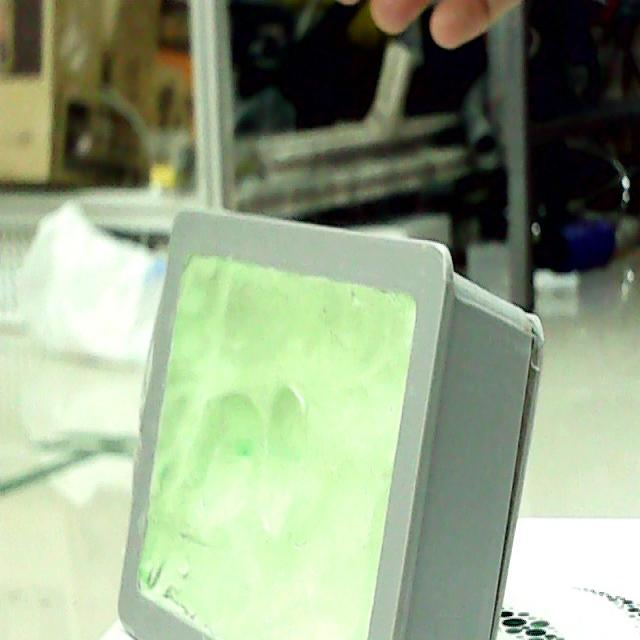block: (114, 201, 547, 640)
